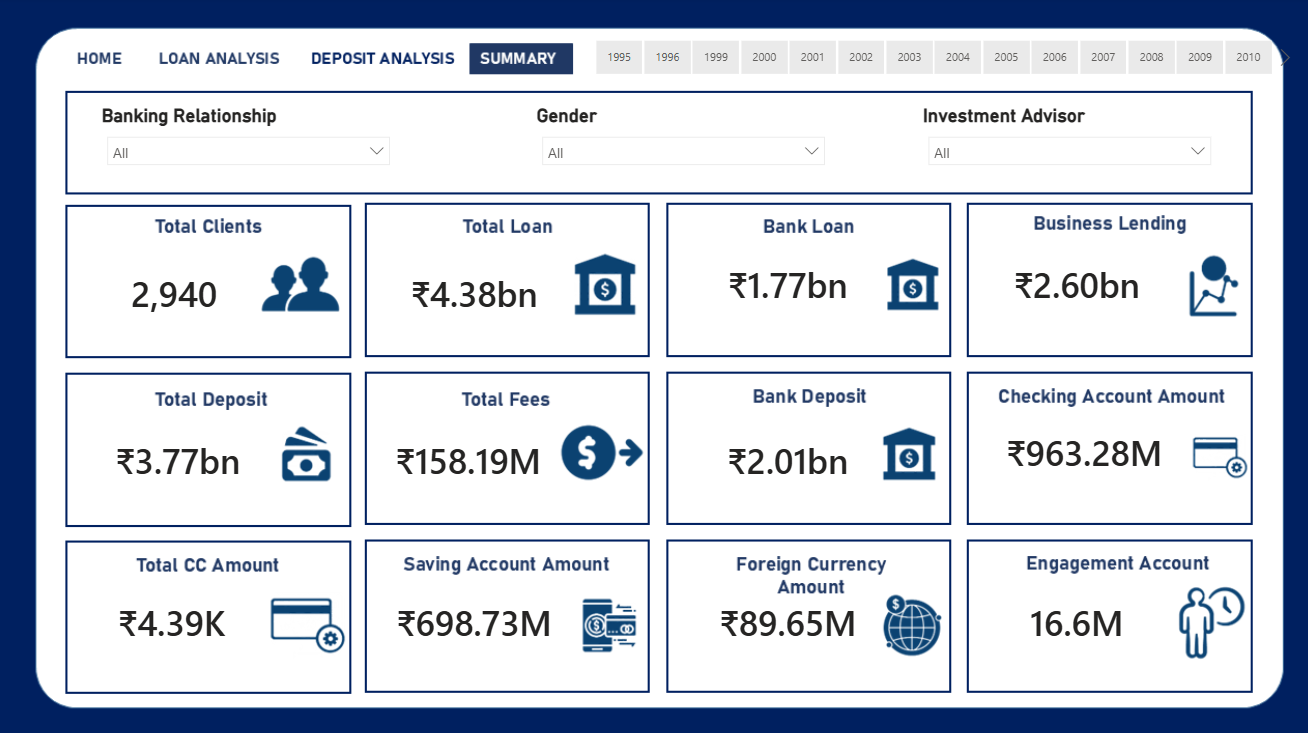

This screenshot's page, from the dashboard's own definition file:
{"tool":"powerbi","page":{"name":"Summary","canvas":[1280,720],"ordinal":3},"visuals":[{"type":"card","fields":{"Values":["DAX Measures.Engagment Length"]},"box":[946.3,546.4,198.2,114.9],"z":0},{"type":"card","fields":{"Values":["DAX Measures.Foreign Currency Account"]},"box":[667.2,546.4,198.2,114.9],"z":1000},{"type":"card","fields":{"Values":["DAX Measures.Bank Deposit"]},"box":[667.2,390.5,198.2,114.9],"z":2000},{"type":"card","fields":{"Values":["DAX Measures.Checking Accounts"]},"box":[953.4,382.3,198.2,114.9],"z":3000},{"type":"card","fields":{"Values":["DAX Measures.Bank Loan"]},"box":[667.2,220.5,198.2,114.9],"z":4000},{"type":"card","fields":{"Values":["DAX Measures.Business Lending"]},"box":[953.4,220.5,184.1,114.9],"z":5000},{"type":"card","fields":{"Values":["DAX Measures.Savings Account"]},"box":[360,546.4,207.6,114.9],"z":6000},{"type":"card","fields":{"Values":["DAX Measures.Total CC Amount"]},"box":[72.7,546.4,198.2,114.9],"z":7000},{"type":"card","fields":{"Values":["DAX Measures.Total Deposit"]},"box":[78.6,390.5,198.2,114.9],"z":8000},{"type":"card","fields":{"Values":["DAX Measures.Total Fees"]},"box":[365.9,390.5,184.1,114.9],"z":9000},{"type":"card","fields":{"Values":["DAX Measures.Total Clients"]},"box":[75,228.7,198.2,114.9],"z":10000},{"type":"card","fields":{"Values":["DAX Measures.Total Loan"]},"box":[365.9,228.7,195.8,114.9],"z":11000},{"type":"slicer","title":"Banking Relationship","fields":{"Values":["Banking Relationship.Banking Relationship"]},"box":[98.5,104.3,292.9,75.7],"z":12000},{"type":"slicer","title":"Gender","fields":{"Values":["Gender.Gender"]},"box":[518.9,104.3,292.9,75.7],"z":13000},{"type":"slicer","title":"Investment Advisor","fields":{"Values":["Investment Advisor.Investment Advisor"]},"box":[891.3,104.3,292.9,75.7],"z":14000},{"type":"slicer","fields":{"Values":["Clients - Banking.Joined Bank.Variation.Date Hierarchy.Year"]},"box":[555.2,34.6,702.1,46.6],"z":15000},{"type":"actionButton","box":[72.8,44.2,58.5,31],"z":16000},{"type":"actionButton","box":[306.9,44.7,119.4,31],"z":17000},{"type":"actionButton","box":[297.9,44.6,147.8,30.5],"z":18000},{"type":"actionButton","box":[157.1,44.6,125.5,30.5],"z":19000}]}

Visuals, with their boxes in screenshot pixels (x1, y1, x2, y2), scaled from the page's 1280x720 canvas onto the 1308x733 screenshot:
card - DAX Measures.Engagment Length: 967 556 1170 673
card - DAX Measures.Foreign Currency Account: 682 556 884 673
card - DAX Measures.Bank Deposit: 682 398 884 515
card - DAX Measures.Checking Accounts: 974 389 1177 506
card - DAX Measures.Bank Loan: 682 224 884 341
card - DAX Measures.Business Lending: 974 224 1162 341
card - DAX Measures.Savings Account: 368 556 580 673
card - DAX Measures.Total CC Amount: 74 556 277 673
card - DAX Measures.Total Deposit: 80 398 283 515
card - DAX Measures.Total Fees: 374 398 562 515
card - DAX Measures.Total Clients: 77 233 279 350
card - DAX Measures.Total Loan: 374 233 574 350
"Banking Relationship" slicer: 101 106 400 183
"Gender" slicer: 530 106 830 183
"Investment Advisor" slicer: 911 106 1210 183
slicer - Clients - Banking.Joined Bank.Variation.Date Hierarchy.Year: 567 35 1285 83
actionButton: 74 45 134 77
actionButton: 314 46 436 77
actionButton: 304 45 455 76
actionButton: 161 45 289 76
